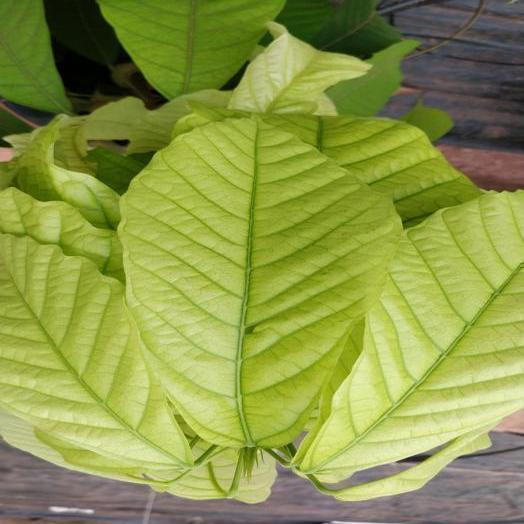Healthy Leaf: (99, 0, 283, 98), (0, 0, 71, 113)
Iron: (119, 118, 400, 454), (300, 192, 523, 480), (0, 234, 191, 477), (0, 414, 276, 503), (265, 116, 480, 226), (228, 22, 370, 114), (321, 426, 494, 501), (0, 187, 123, 281), (16, 116, 119, 227), (85, 90, 228, 152)
